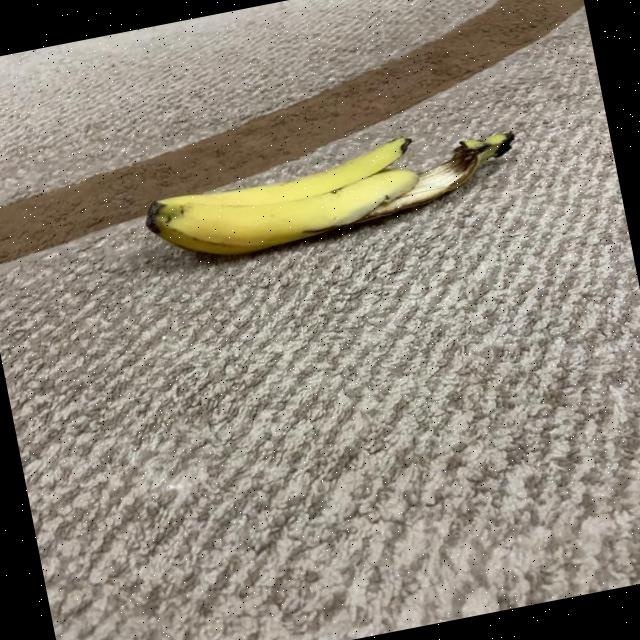banana-peel: (137, 113, 527, 273)
